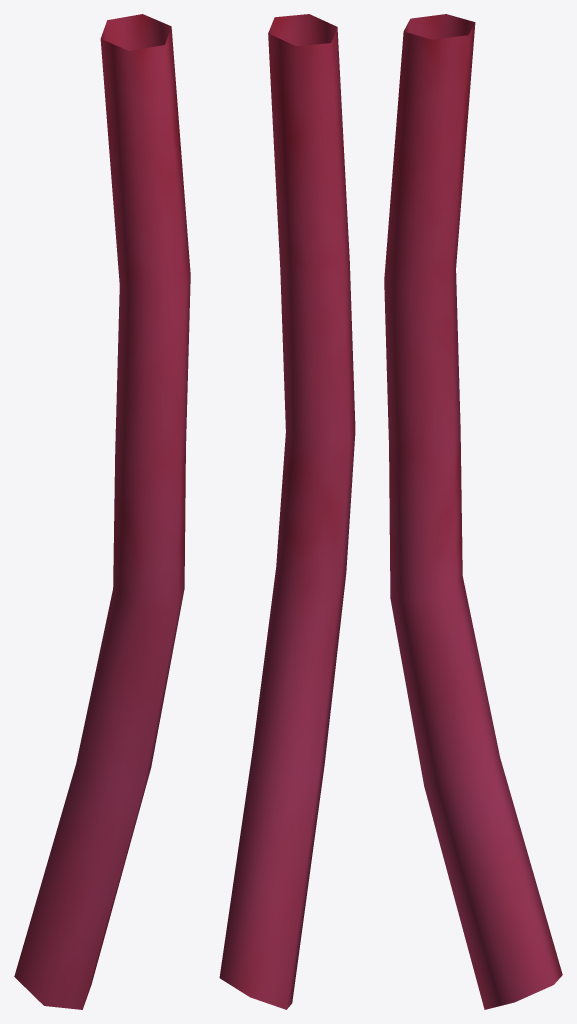
Rendered from VeinLargeE.fbx.
3 renders of one model, left to right at view 1: azimuth 90°, elevation 25°; view 2: azimuth 150°, elevation 25°; view 3: azimuth 270°, elevation 25°, orthographic. The views are drawn at different scales.
Visible parts, largest first — view 1: VeinLargeE; view 2: VeinLargeE; view 3: VeinLargeE.
Part boxes in pixels (x1=…): VeinLargeE: x1=14, y1=14, x2=190, y2=1009; VeinLargeE: x1=219, y1=14, x2=355, y2=1009; VeinLargeE: x1=384, y1=14, x2=562, y2=1009.
Bounding box in the file's own units: 71.14 × 775 × 127.
